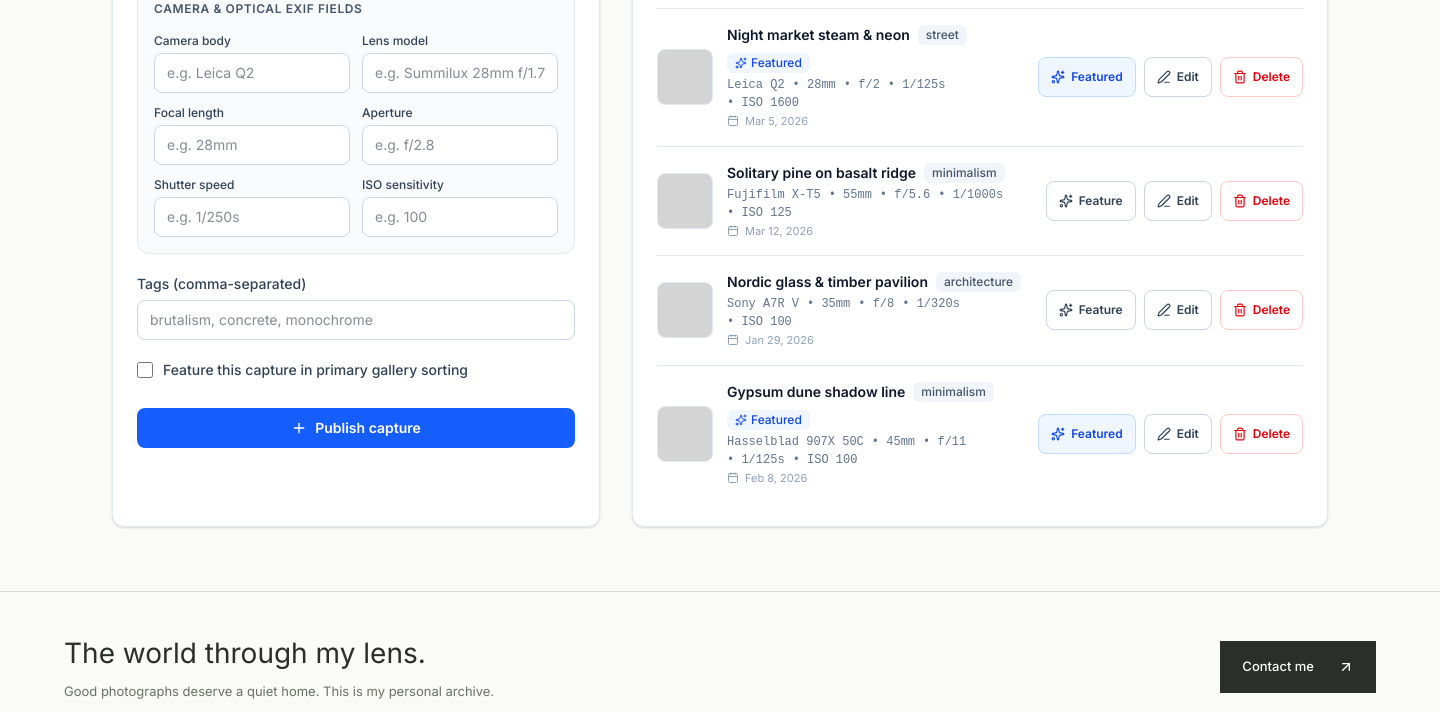
Admin Curation Studio Test Suite › 4. Capture Creation & Validation › displays validation alert when title is blank and creates capture upon valid submission
(page scrolled)
Click the button "Publish capture". click: x=356, y=428
box: [137,408,575,448]
(page scrolled)
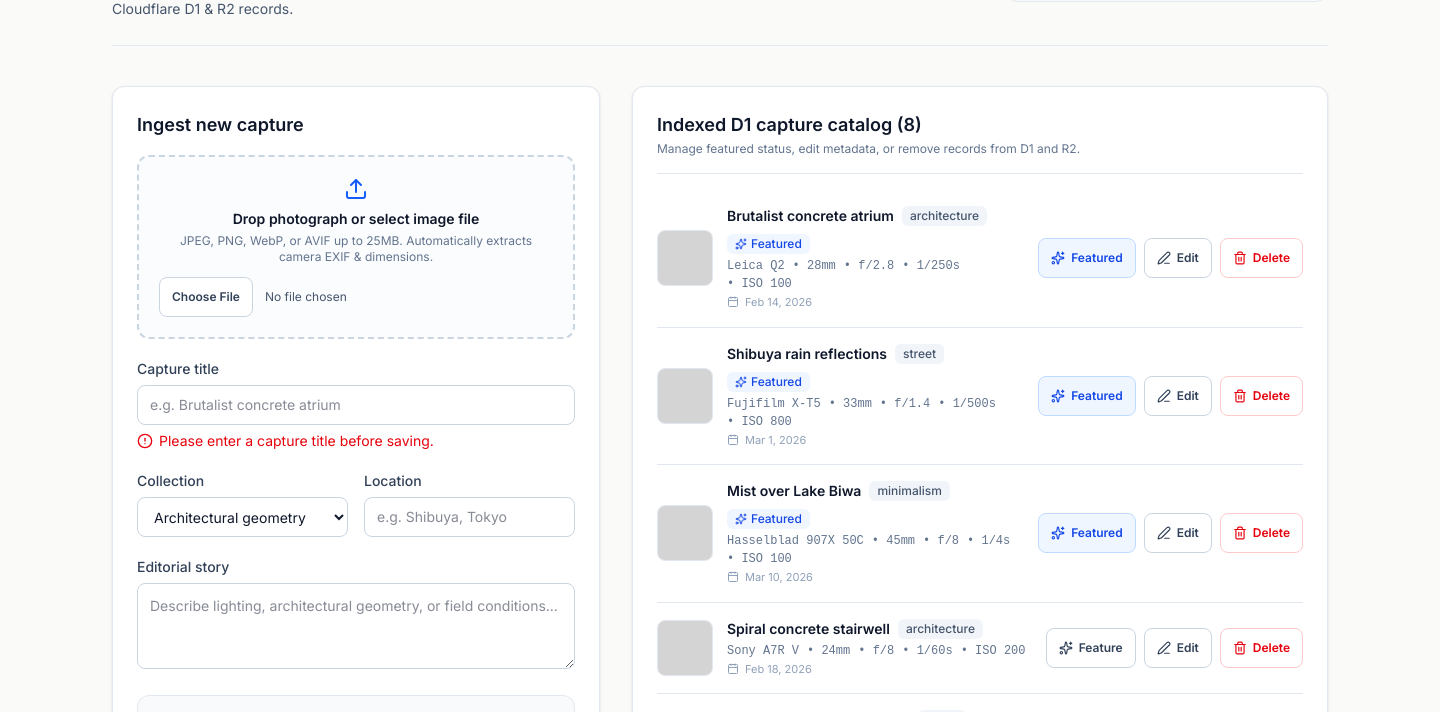
Expected: the message shows "Please enter a capture title before saving", [159,432,434,449]
# Enter valid title and metadata
Type "Gothenburg harbor crane" into the field labelled "Capture title". click: x=356, y=405
box: [137,385,575,425]
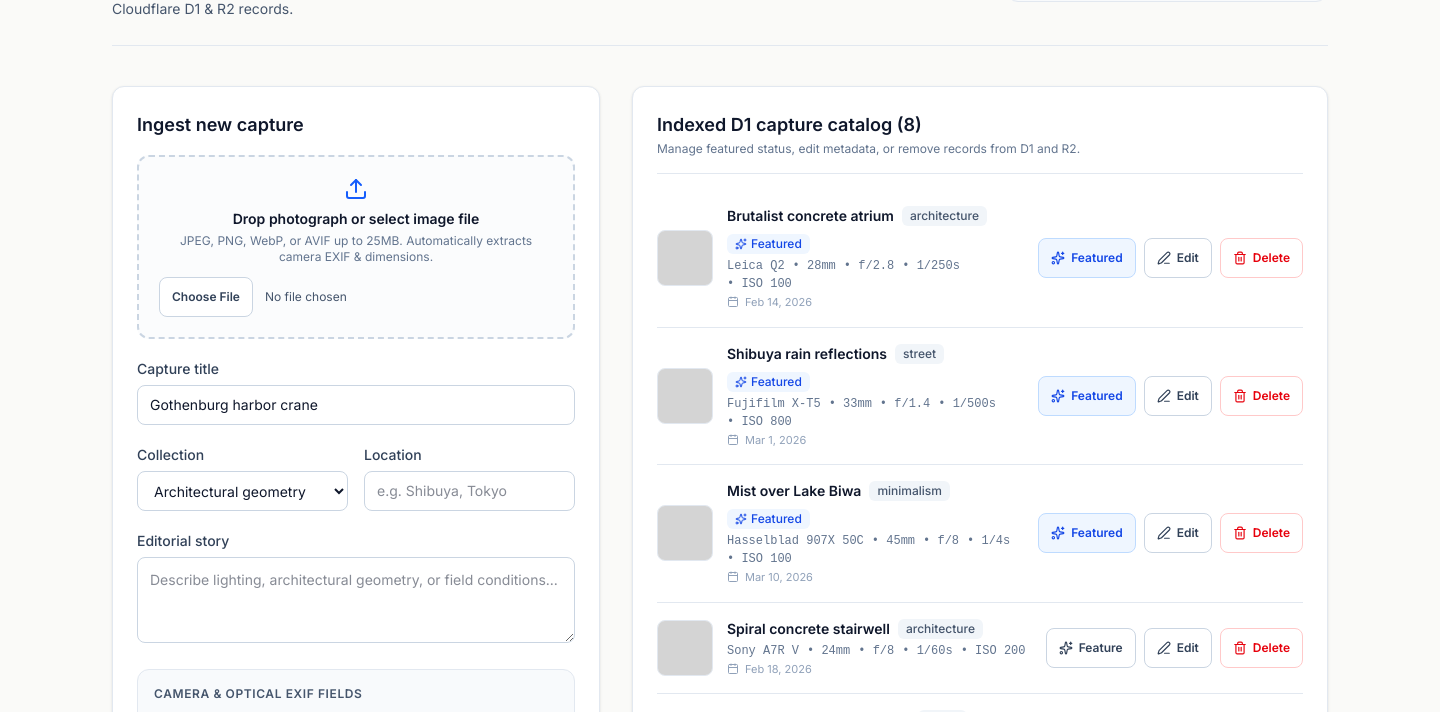
Type "Gothenburg, Sweden" into the field labelled "Location". click: x=470, y=491
box: [364,471,575,511]
(page scrolled)
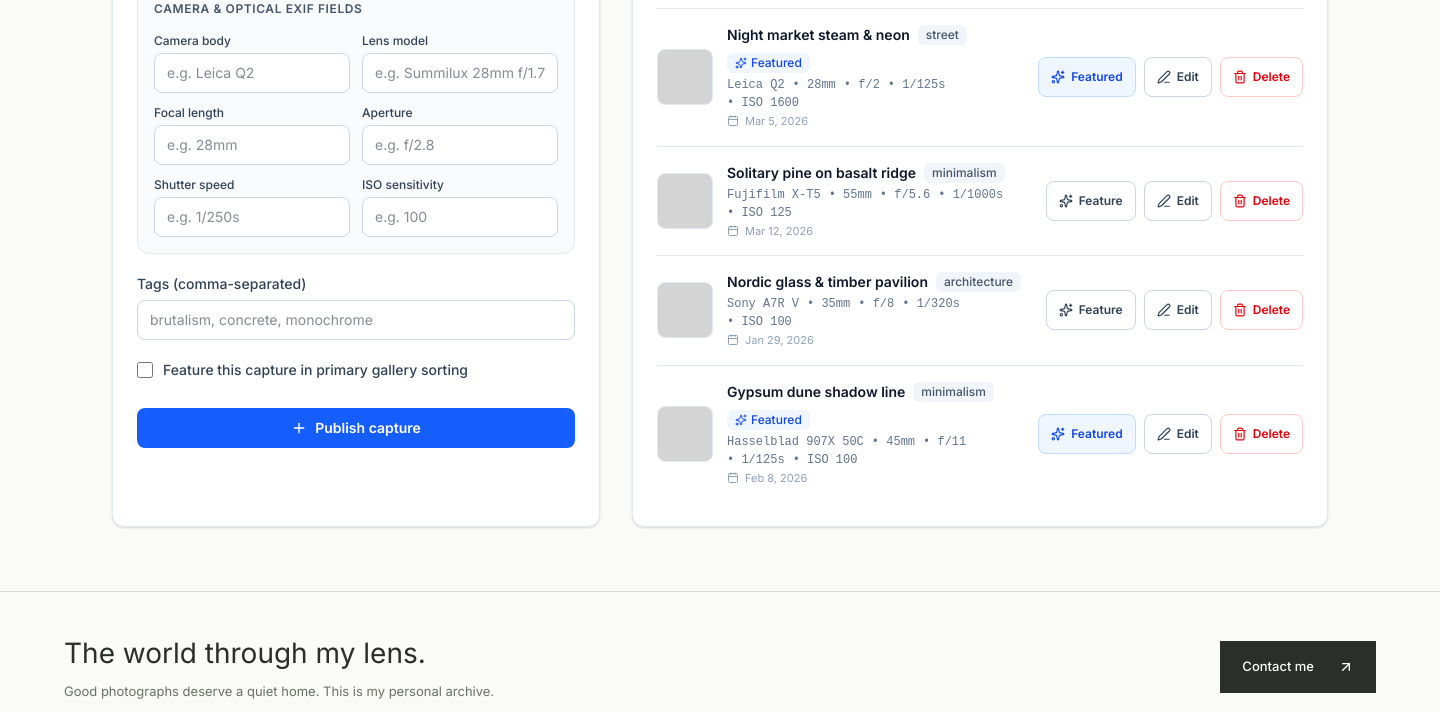
Click the button "Publish capture". click: x=356, y=428
box: [137,408,575,448]
(page scrolled)
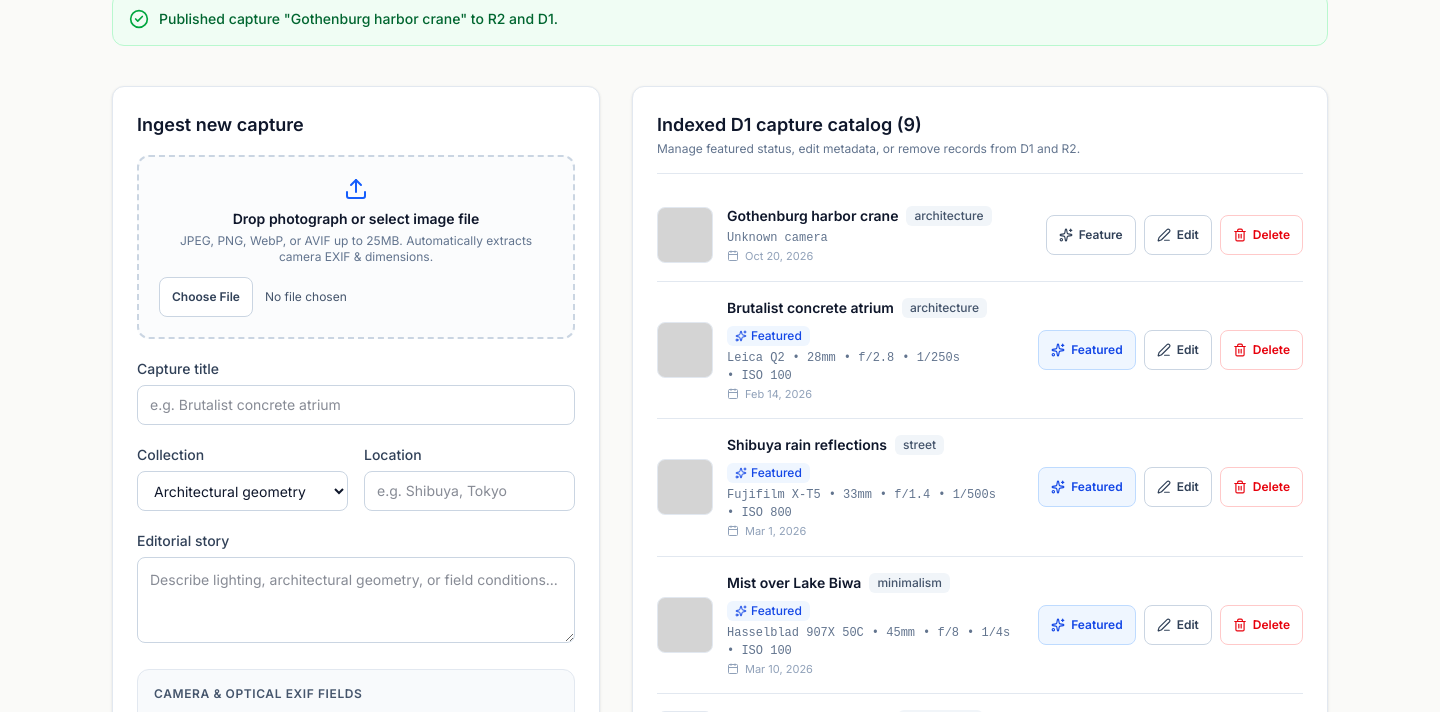
Expected: the message shows "Published capture \"Gothenburg harbor crane\" to R2 and D1", [159,10,558,27]
Expected: the element with test id "admin-capture-row-gothenburg-harbor-crane" is shown, [657,190,1303,282]
Expected: the field labelled "Capture title" is empty, [137,385,575,425]
